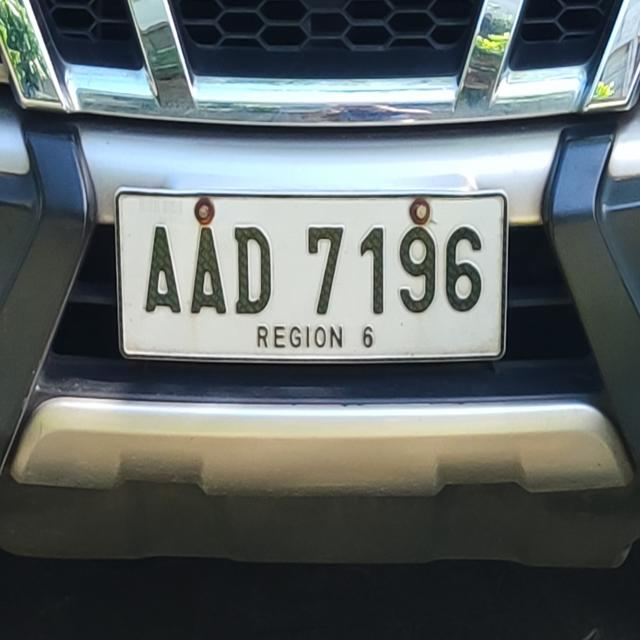plate: (109, 180, 515, 371)
